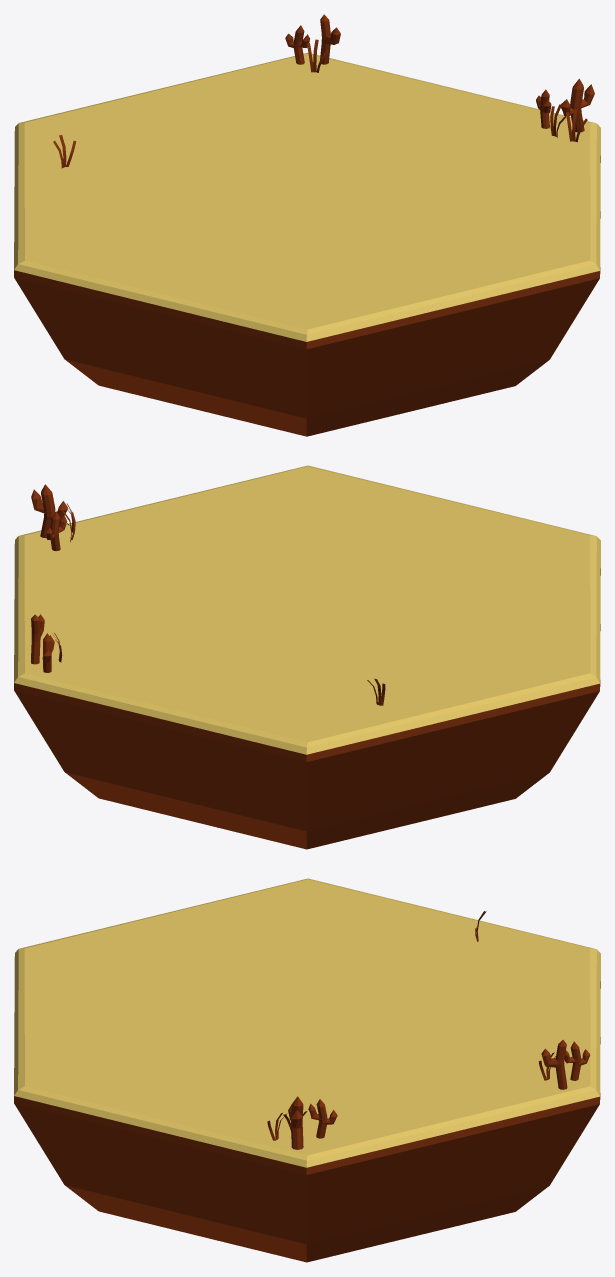
Rendered from Asset_Biome_Desert_03.fbx.
3 views of the same model, one above another, from view 1: azimuth 30°, elevation 25°; view 2: azimuth 150°, elevation 25°; view 3: azimuth 270°, elevation 25° (orthographic).
Visible parts, largest first — view 1: Asset_Tile_Desert, PolySurface_cactus_03, PolySurface_cactus_01; view 2: Asset_Tile_Desert, PolySurface_cactus_03, PolySurface_cactus_01; view 3: Asset_Tile_Desert, PolySurface_cactus_03, PolySurface_cactus_01, PolySurface_cactus_02.
Boxes of the visible parts, x1,y1,x2,y2 form: Asset_Tile_Desert: [14, 52, 600, 436]; PolySurface_cactus_03: [560, 78, 594, 132]; PolySurface_cactus_01: [320, 14, 340, 64]; Asset_Tile_Desert: [14, 465, 600, 849]; PolySurface_cactus_03: [31, 484, 67, 537]; PolySurface_cactus_01: [31, 614, 44, 664]; Asset_Tile_Desert: [14, 878, 600, 1262]; PolySurface_cactus_03: [288, 1096, 303, 1149]; PolySurface_cactus_01: [541, 1039, 567, 1089]; PolySurface_cactus_02: [308, 1099, 337, 1138].
Size of the model in its own units: 436 by 148 by 378.
